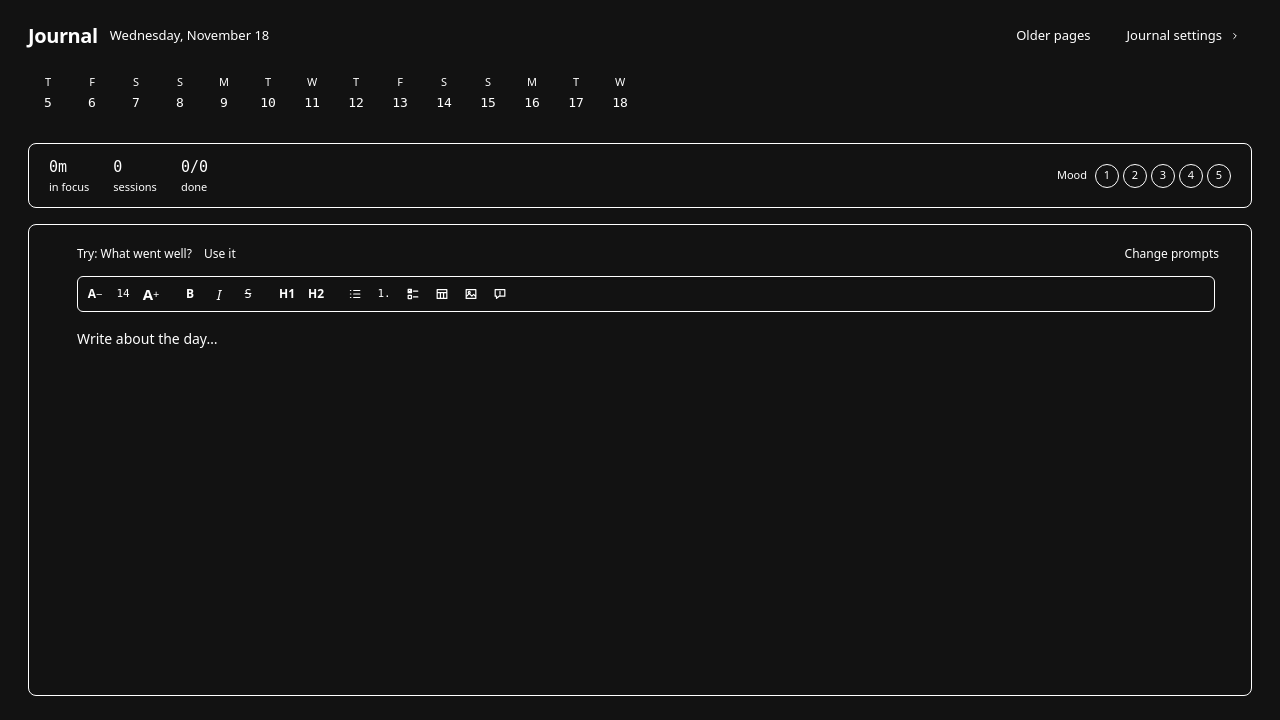
Test: journal page (v0.2) › leaves no page when only the prompts are there
The width and height of the screenshot is (1280, 720).
Expected: the field named "Journal, " does not show "What went well?", [77, 327, 1215, 647]
Expected: the element with test id "journal-offer" shows "Try: What went well?", [45, 245, 1219, 263]
What coordinates should you click on to do the following:
click the button "Use it"
I would click on:
 (220, 254)
Its box is [204, 245, 236, 263].
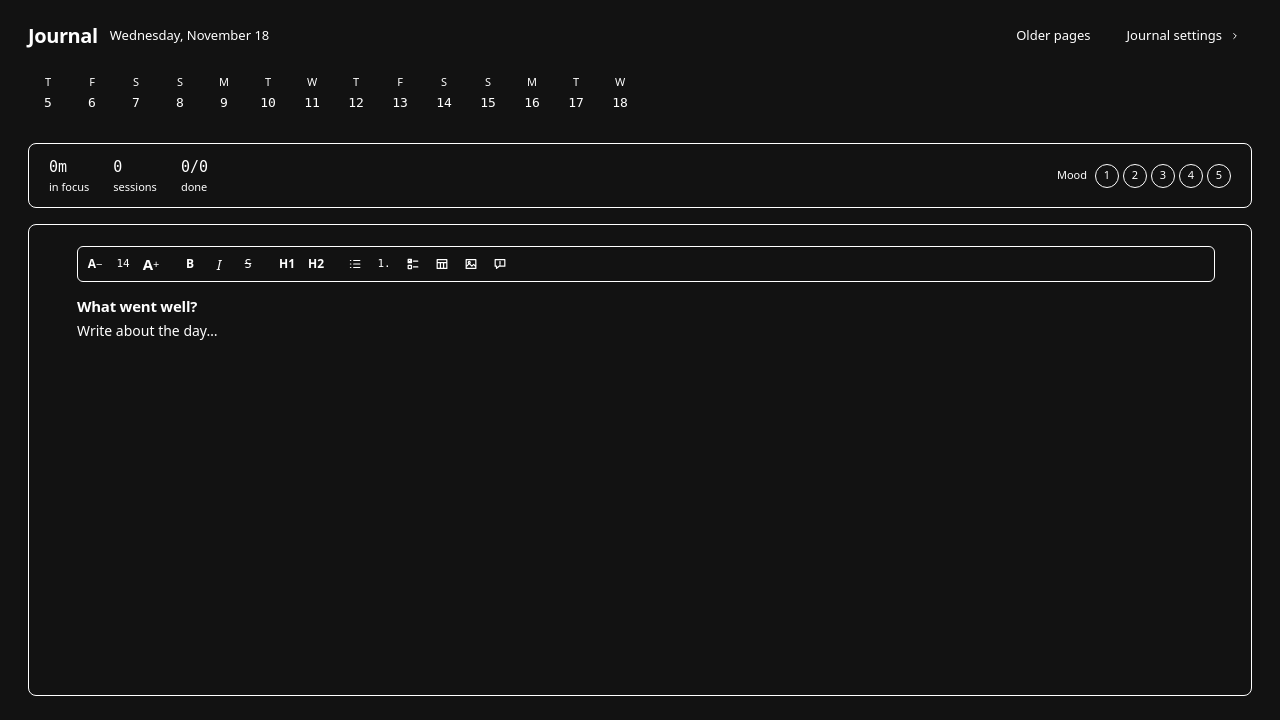
Expected: the field named "Journal, " reads "What went well?", [77, 296, 197, 316]
